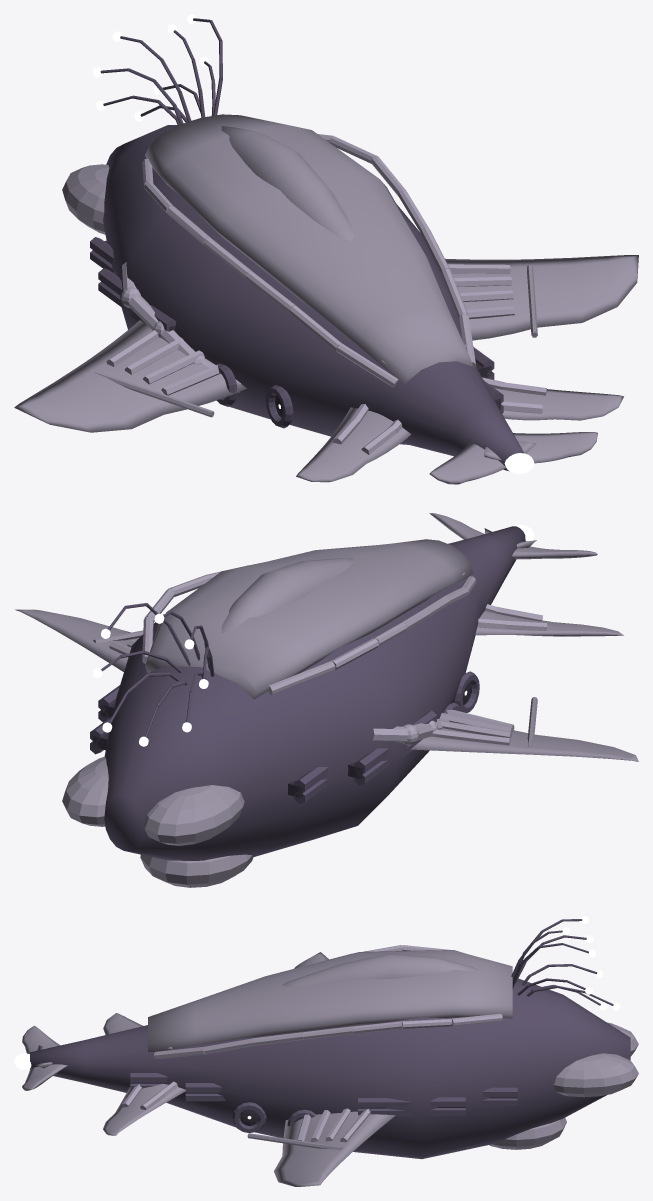
3 views of the same model, one above another, from view 1: azimuth 30°, elevation 25°; view 2: azimuth 150°, elevation 25°; view 3: azimuth 270°, elevation 25° (orthographic). The views are drawn at different scales.
Visible parts, largest first — view 1: RIMWARD_HULL; view 2: RIMWARD_HULL, RIMWARD_EMISSIVE; view 3: RIMWARD_HULL, RIMWARD_EMISSIVE.
Boxes of the visible parts, x1,y1,x2,y2 form: RIMWARD_HULL: (14,18,638,484); RIMWARD_HULL: (15,513,638,887); RIMWARD_EMISSIVE: (92,613,467,746); RIMWARD_HULL: (22,919,638,1186); RIMWARD_EMISSIVE: (247,916,620,1119).
Size of the model in its own units: 7.04 by 3.13 by 7.97.
